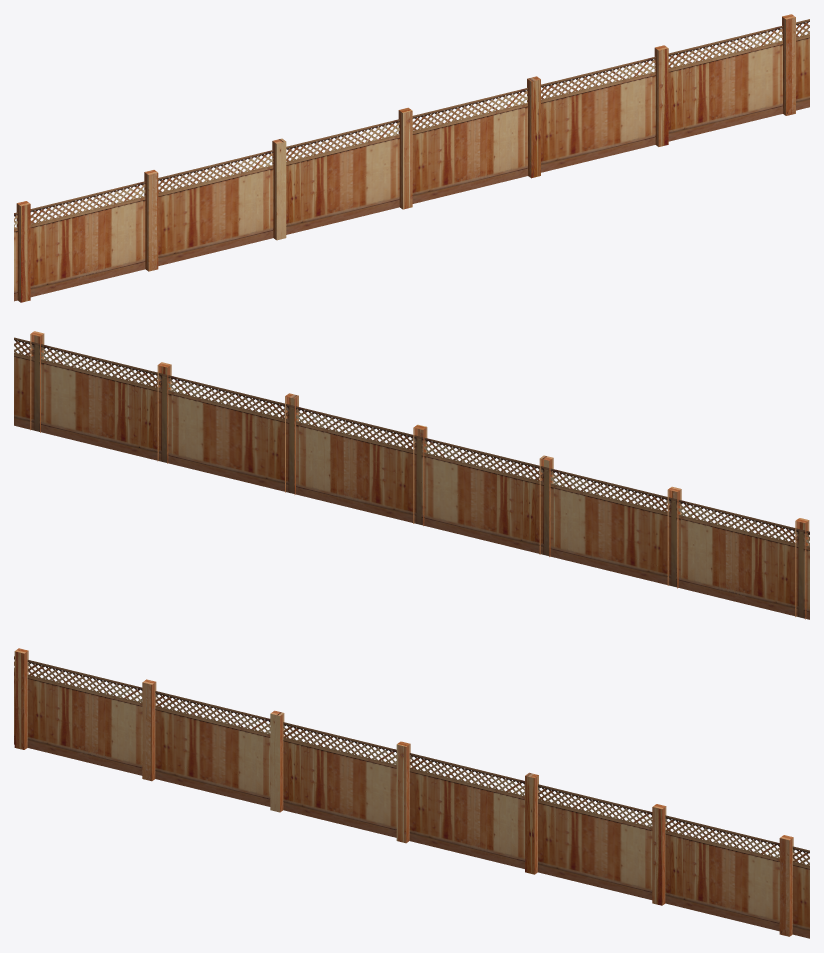
File: Fence.fbx
3 renders of one model, top to bottom at view 1: azimuth 30°, elevation 25°; view 2: azimuth 150°, elevation 25°; view 3: azimuth 330°, elevation 25°, orthographic.
Visible parts, largest first — view 1: Fence; view 2: Fence; view 3: Fence.
Boxes of the visible parts, x1=… form: Fence: x1=14, y1=14, x2=809, y2=302; Fence: x1=14, y1=331, x2=809, y2=619; Fence: x1=14, y1=648, x2=809, y2=938.
Size of the model in its own units: 885 by 102 by 8.11.
